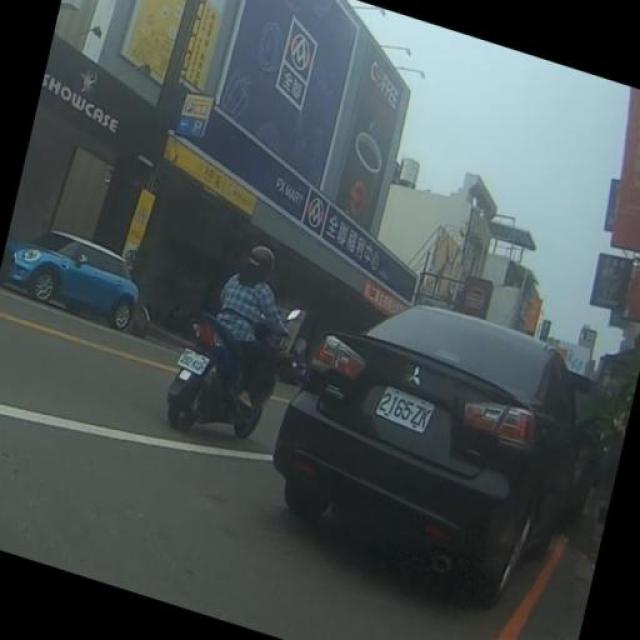Legalparking: (265, 252, 593, 610)
